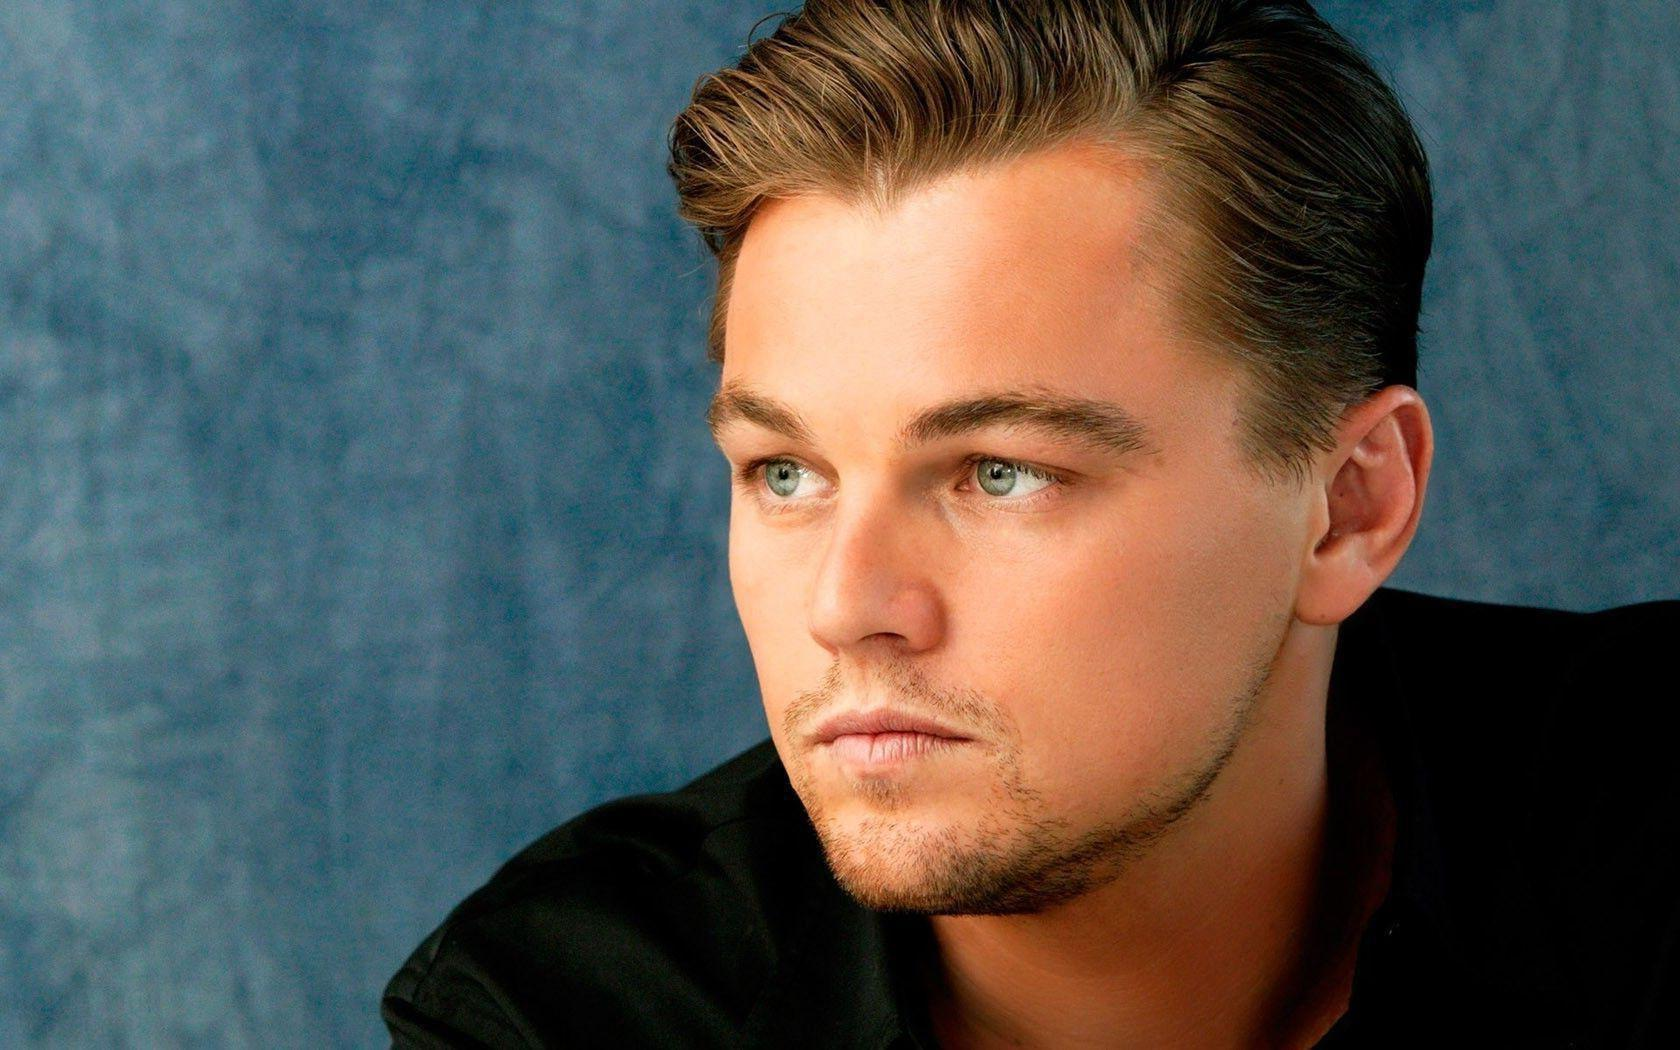Sober: (702, 223, 1253, 881)
